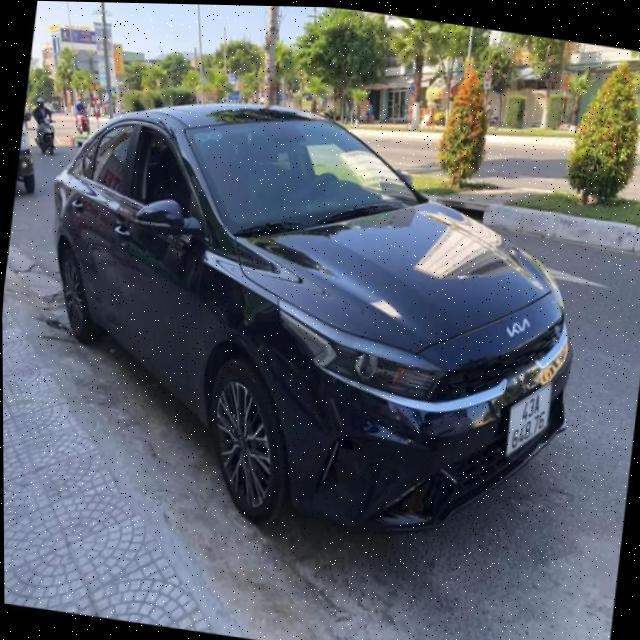car: (22, 84, 601, 563)
plate: (501, 377, 555, 460)
